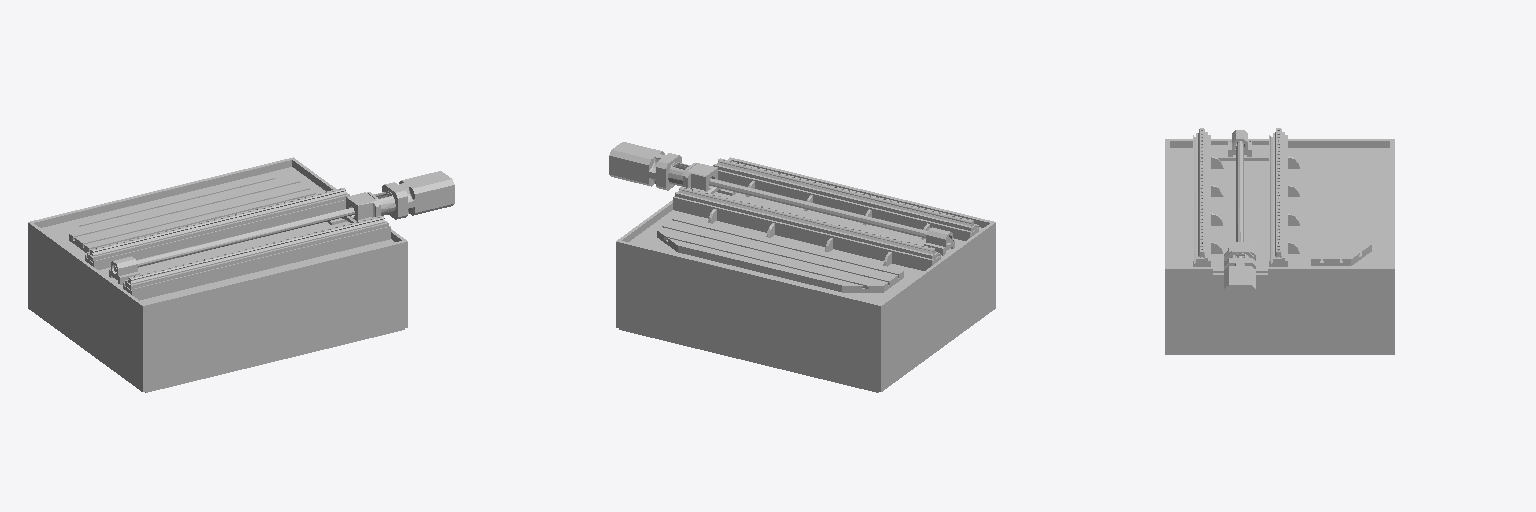
3 views of the same model, side by side, from view 1: azimuth 30°, elevation 25°; view 2: azimuth 150°, elevation 25°; view 3: azimuth 270°, elevation 25° (orthographic).
Visible parts, largest first — view 1: avs.001; view 2: avs.001; view 3: avs.001.
Part boxes in pixels (bbox=[...]): avs.001: bbox=[28, 157, 454, 392]; avs.001: bbox=[609, 142, 995, 392]; avs.001: bbox=[1165, 128, 1394, 354].
Bounding box in the file's own units: 2.57 × 0.7785 × 1.5.